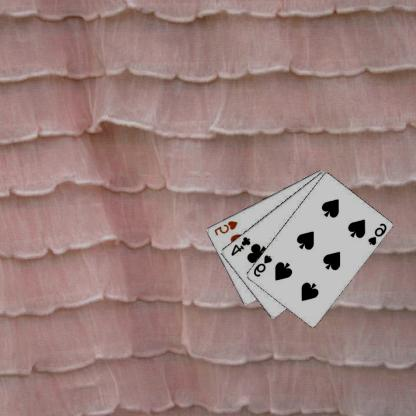4C: (230, 234, 253, 257)
5H: (213, 218, 240, 237)
6S: (252, 253, 274, 278), (367, 221, 389, 246)
